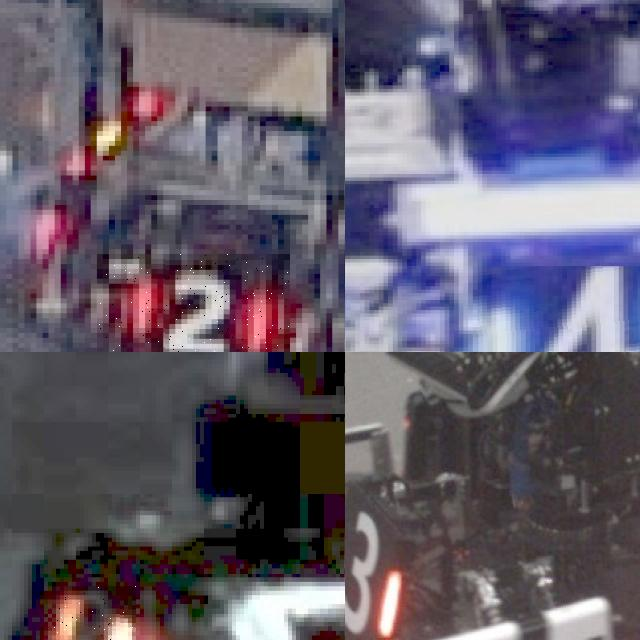B4: (473, 265, 640, 352)
R2: (97, 254, 290, 352)
Rs: (52, 586, 136, 640)
